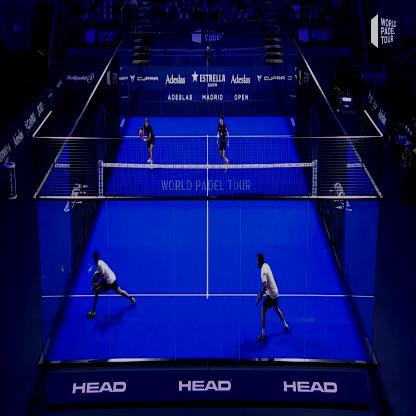ball: (88, 264, 94, 274)
